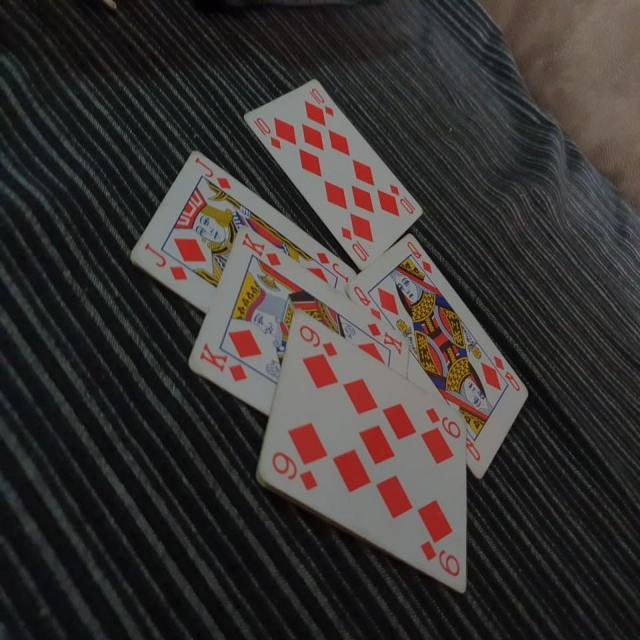10 of diamonds: (242, 74, 428, 270)
9 of diamonds: (256, 308, 468, 592)
jack of diamonds: (129, 146, 358, 312)
king of diamonds: (186, 224, 411, 415)
queen of diamonds: (342, 229, 530, 482)
